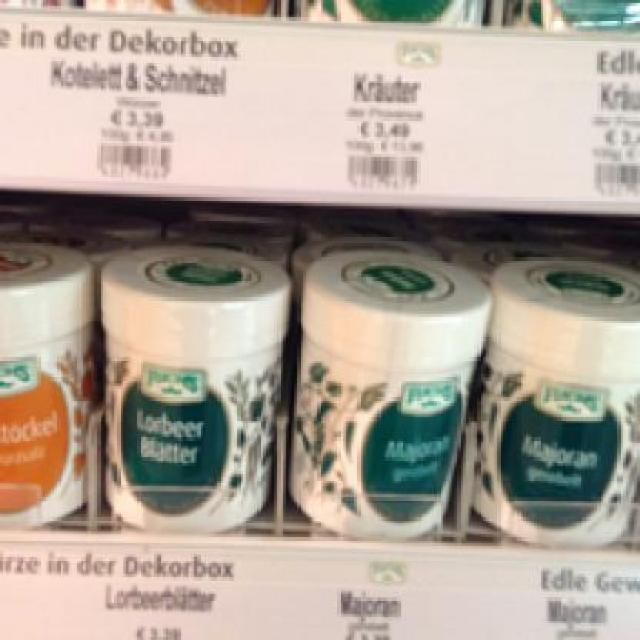Spices: (288, 246, 488, 534), (95, 240, 292, 529), (465, 252, 638, 538), (0, 240, 92, 526)
